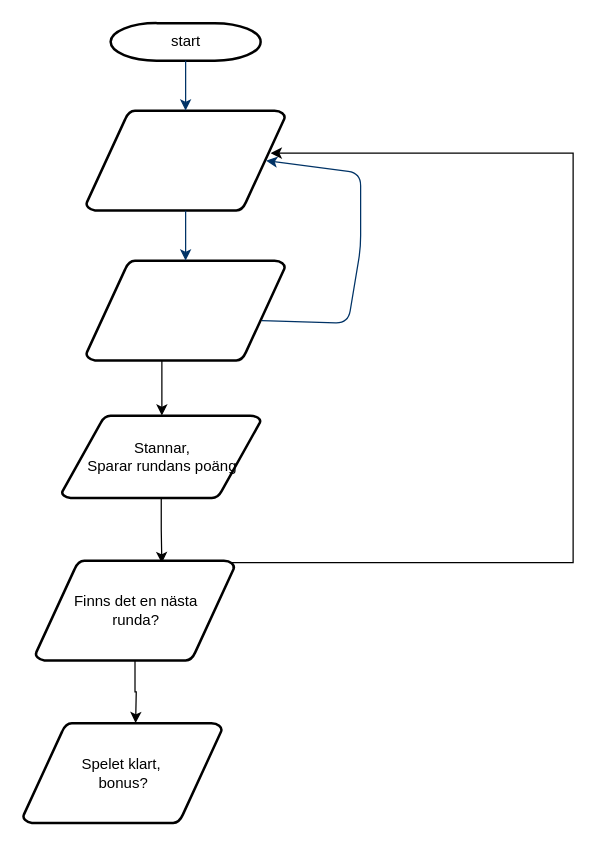
Some shapes in this 605 by 845 pixel diagram are drawn without their labels. The shapes that lost their labels are listed below. From the top down, each one's box as (x1, y1, x2, y2) in pixels, then its label:
(84, 109, 286, 211): Rullar tärningar
(84, 259, 286, 361): Sparar tärningar
